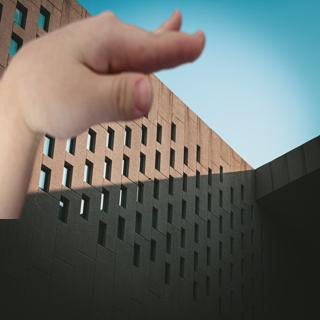Wait: (0, 6, 211, 135)
